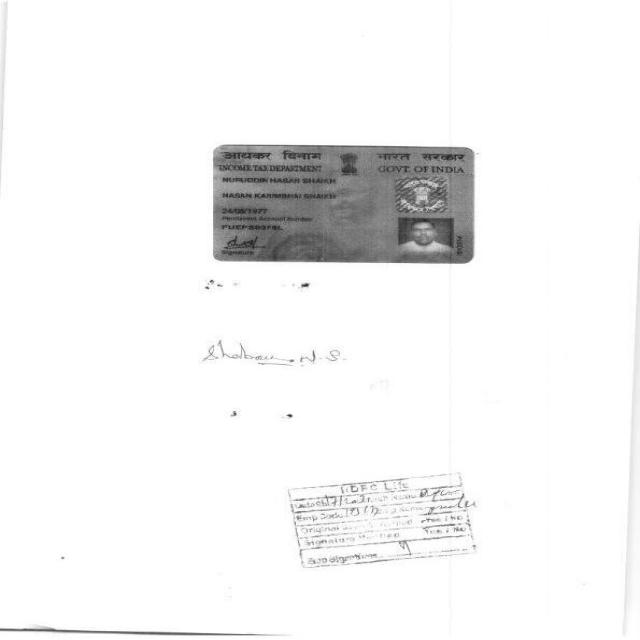pan_card: (211, 143, 476, 266)
